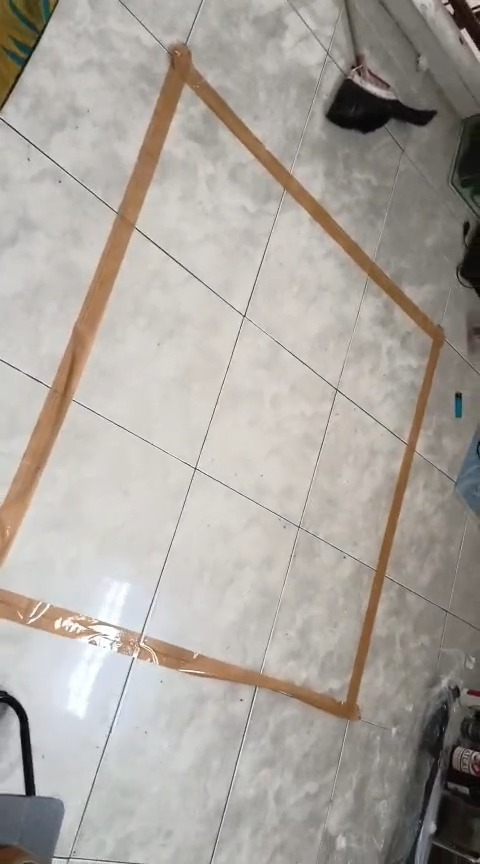floor marking: (0, 44, 444, 720)
